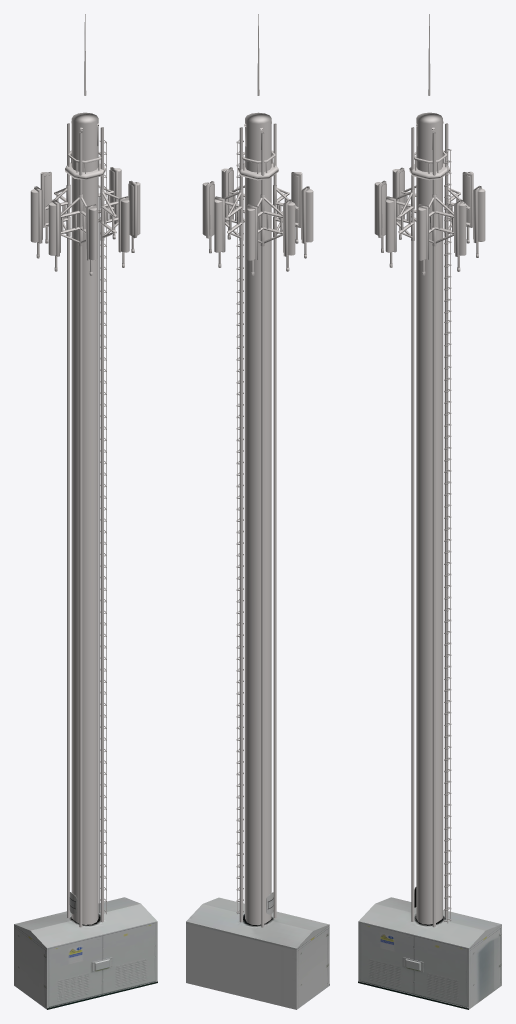
File: signal_tower.glb
The picture shows the model from 3 angles, left to right: view 1: azimuth 30°, elevation 25°; view 2: azimuth 150°, elevation 25°; view 3: azimuth 330°, elevation 25°; orthographic projection.
Parts seen in each view (by area): view 1: Object_19, Object_10, Object_12; view 2: Object_19, Object_12, Object_10; view 3: Object_19, Object_10, Object_12.
Boxes of the visible parts, x1,y1,x2,y2 form: Object_19: (30,14,140,927); Object_10: (14,897,157,1009); Object_12: (14,924,46,1009); Object_19: (202,14,313,927); Object_12: (186,921,329,1009); Object_10: (186,897,329,985); Object_19: (374,14,485,927); Object_10: (358,897,501,1009); Object_12: (469,924,501,1009).
Size of the model in its own units: 3.61 by 30.28 by 2.97.
4 materials, 3 textured.
